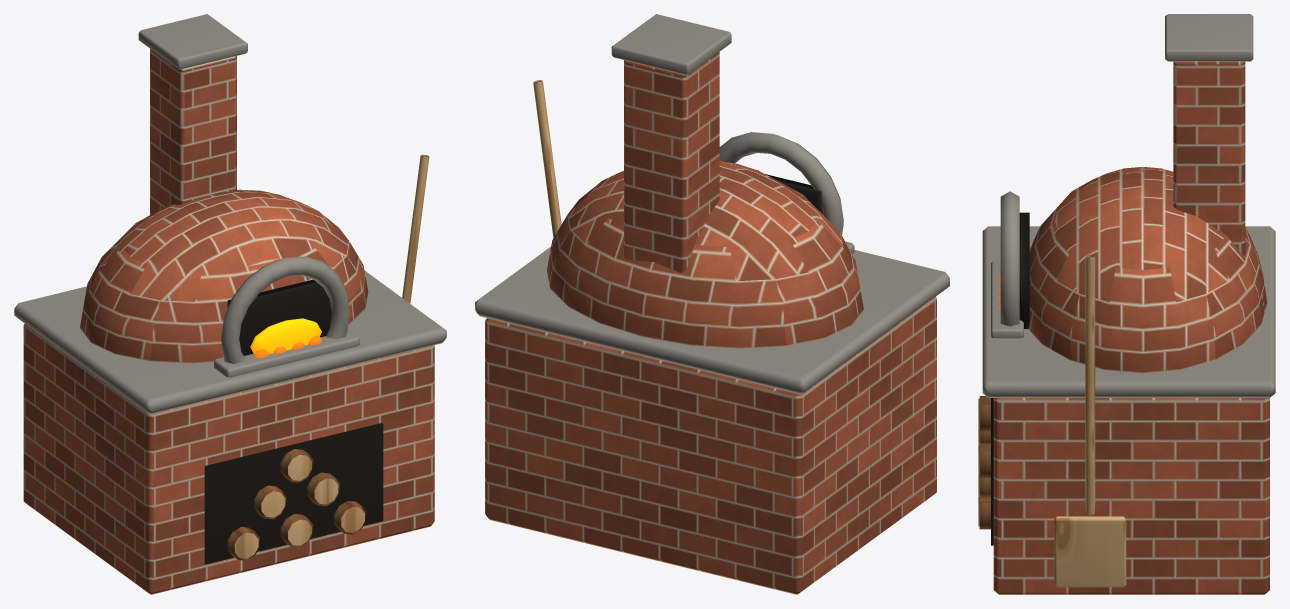
File: brick_oven.glb
The picture shows the model from 3 angles, left to right: view 1: azimuth 30°, elevation 25°; view 2: azimuth 150°, elevation 25°; view 3: azimuth 270°, elevation 25°; orthographic projection. The views are drawn at different scales.
Visible parts, largest first — view 1: model; view 2: model; view 3: model.
Part boxes in pixels (x1=…): model: x1=14, y1=14, x2=446, y2=594; model: x1=475, y1=14, x2=949, y2=594; model: x1=978, y1=14, x2=1275, y2=594.
Bounding box in the file's own units: 1.49 × 1.95 × 1.07.
7 materials, 3 textured.
